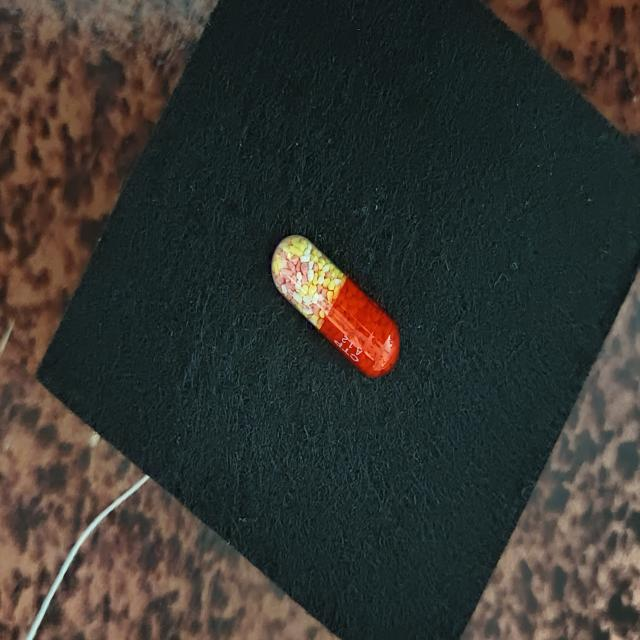Intact Capsule: (271, 235, 400, 378)
